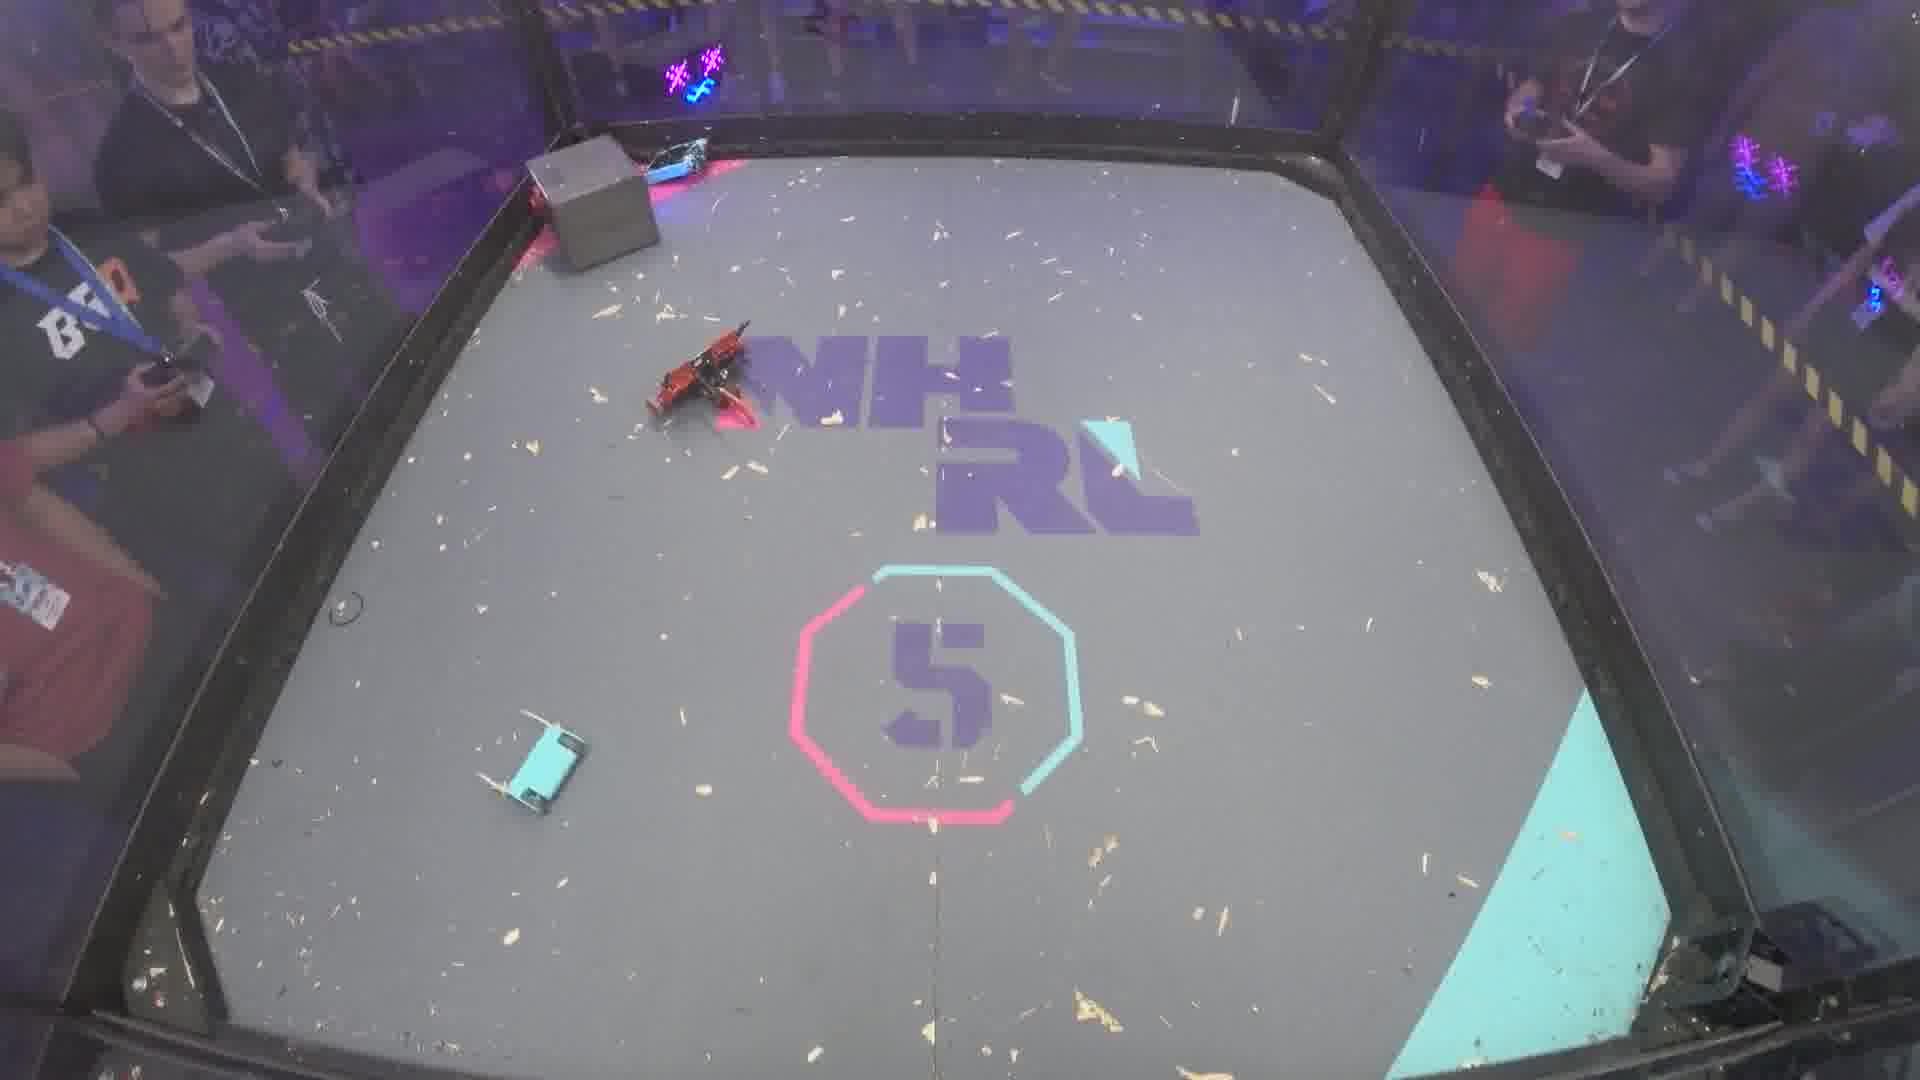belt: (331, 589, 365, 633)
combatbot: (646, 318, 749, 421), (645, 135, 717, 186)
housebot: (522, 131, 661, 278)
minibot: (506, 720, 592, 815)
